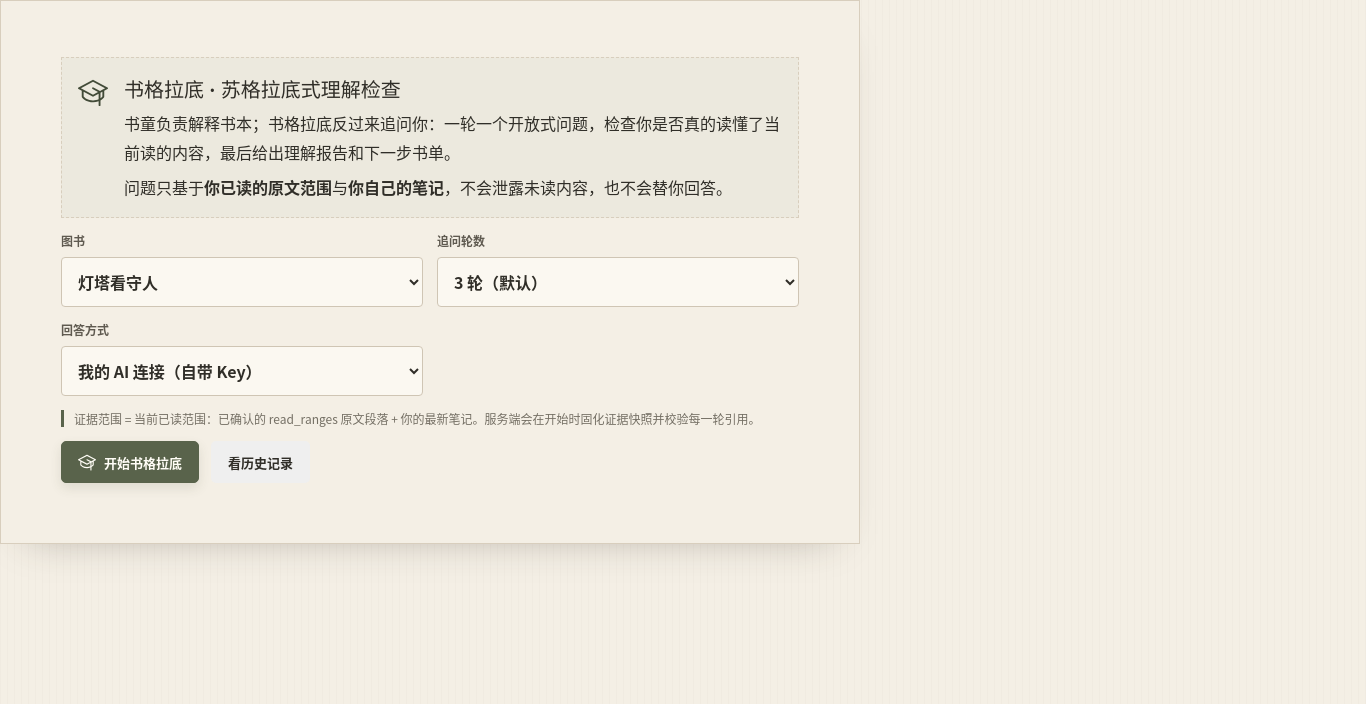
Test: SocraticSession › 开始后展示第一问，提交回答成功后推进到反馈
Click the button "开始书格拉底" at (130, 462), box [61,441,199,483]
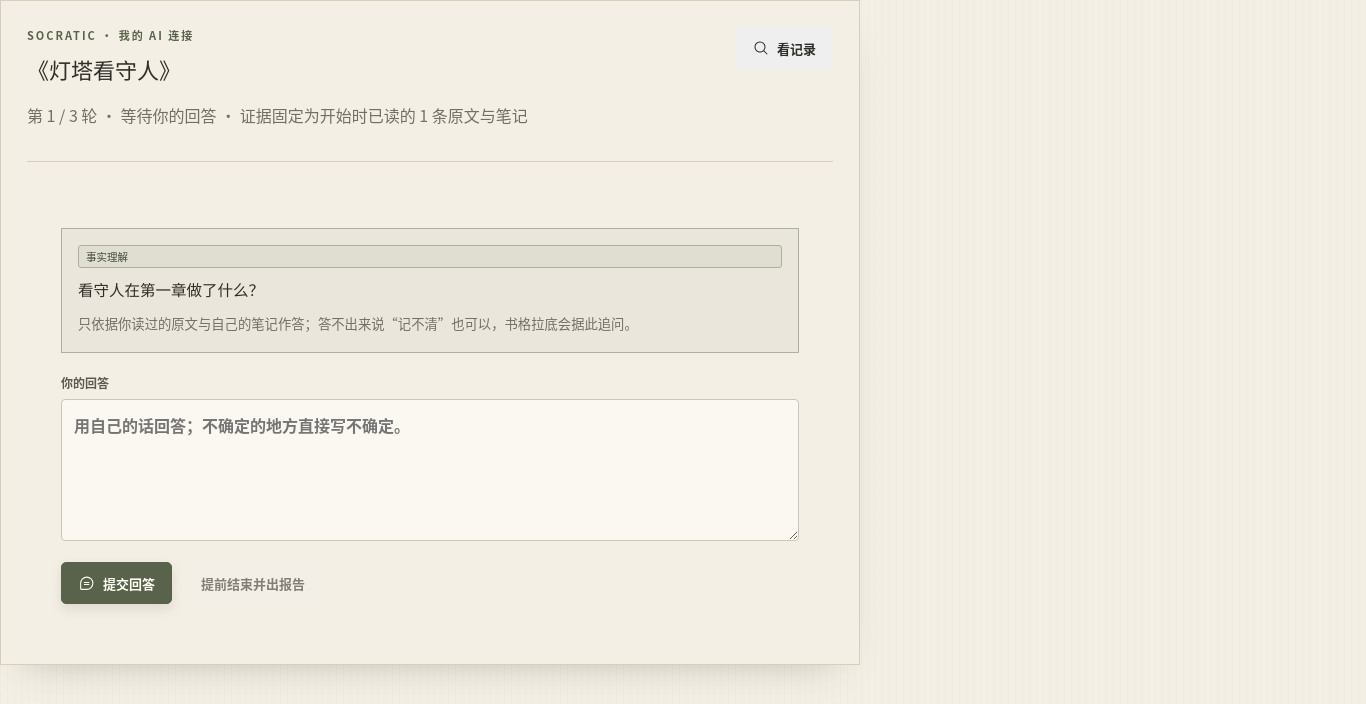
Expected: the text "看守人在第一章做了什么？" is shown, [78,282,264,299]
Type "他给船写信。" into the text box labelled "你的回答" at (430, 470), box [61,399,799,542]
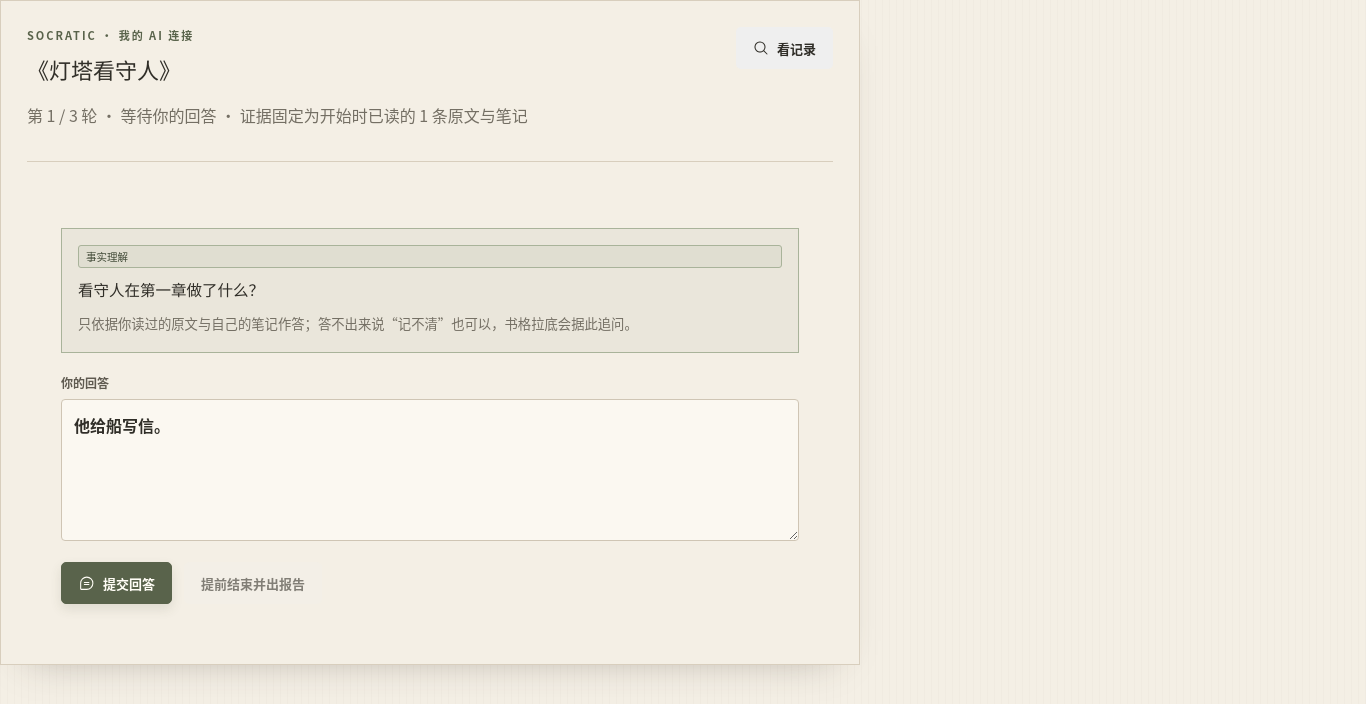
Click the button "提交回答" at (116, 584), box [61,562,172,604]
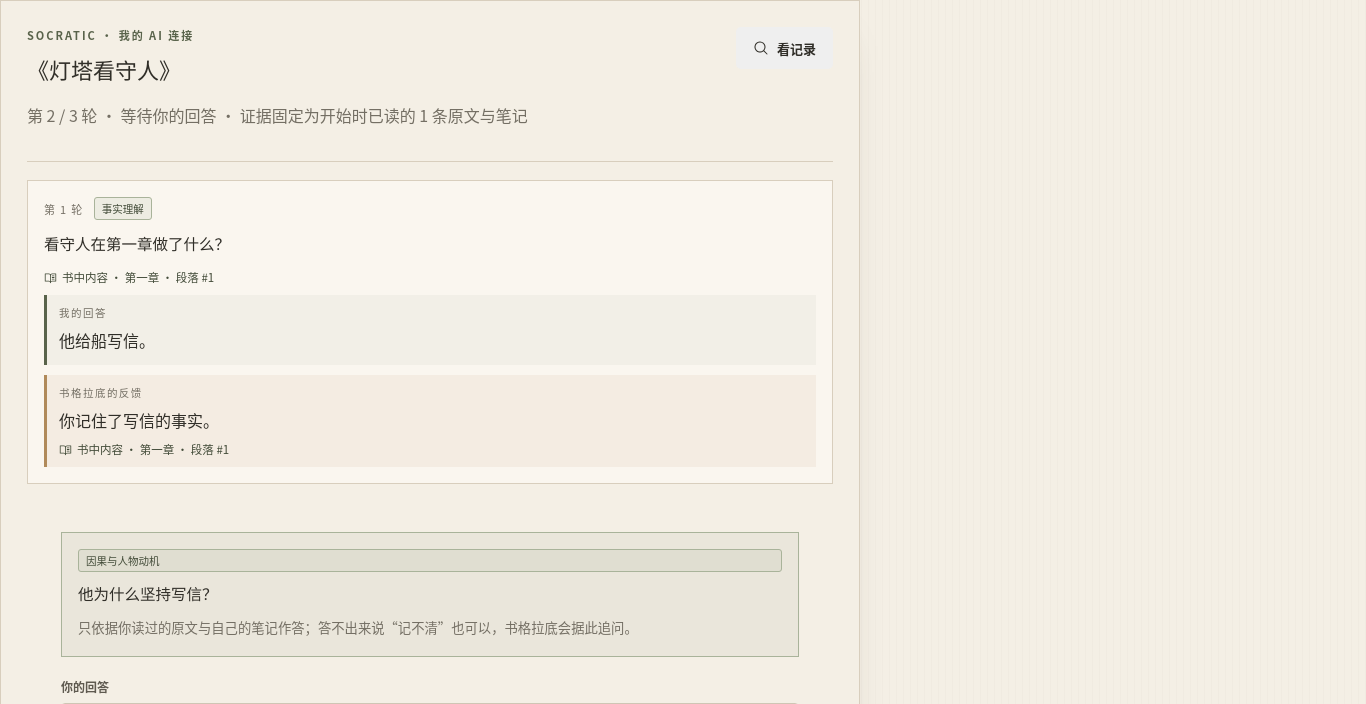
Expected: the text "他为什么坚持写信？" is shown, [78,586,218,603]
Expected: the text "你记住了写信的事实。" is shown, [59,408,219,432]
